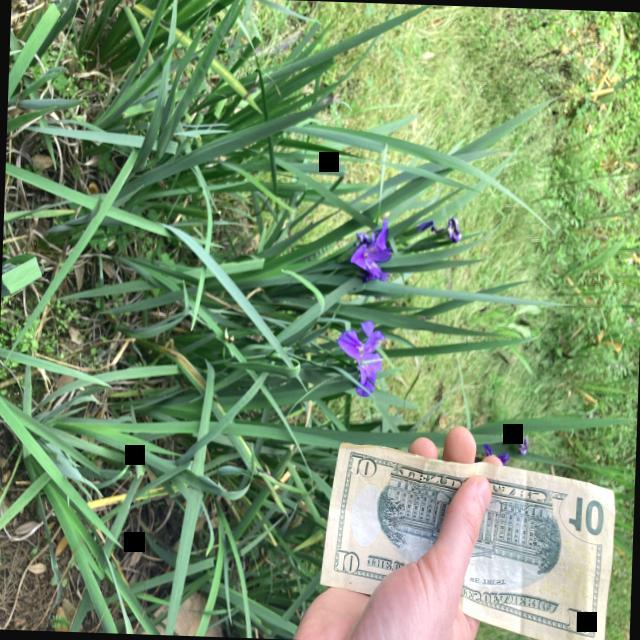ten: (319, 436, 616, 640)
